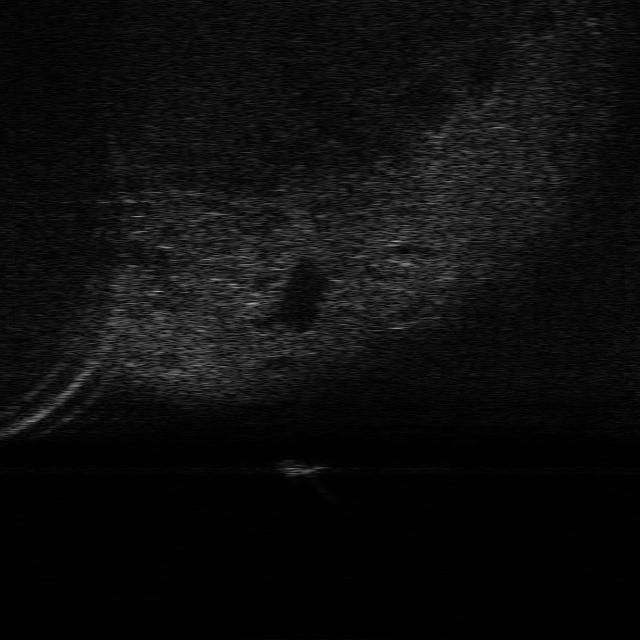cube: (272, 458, 326, 479)
